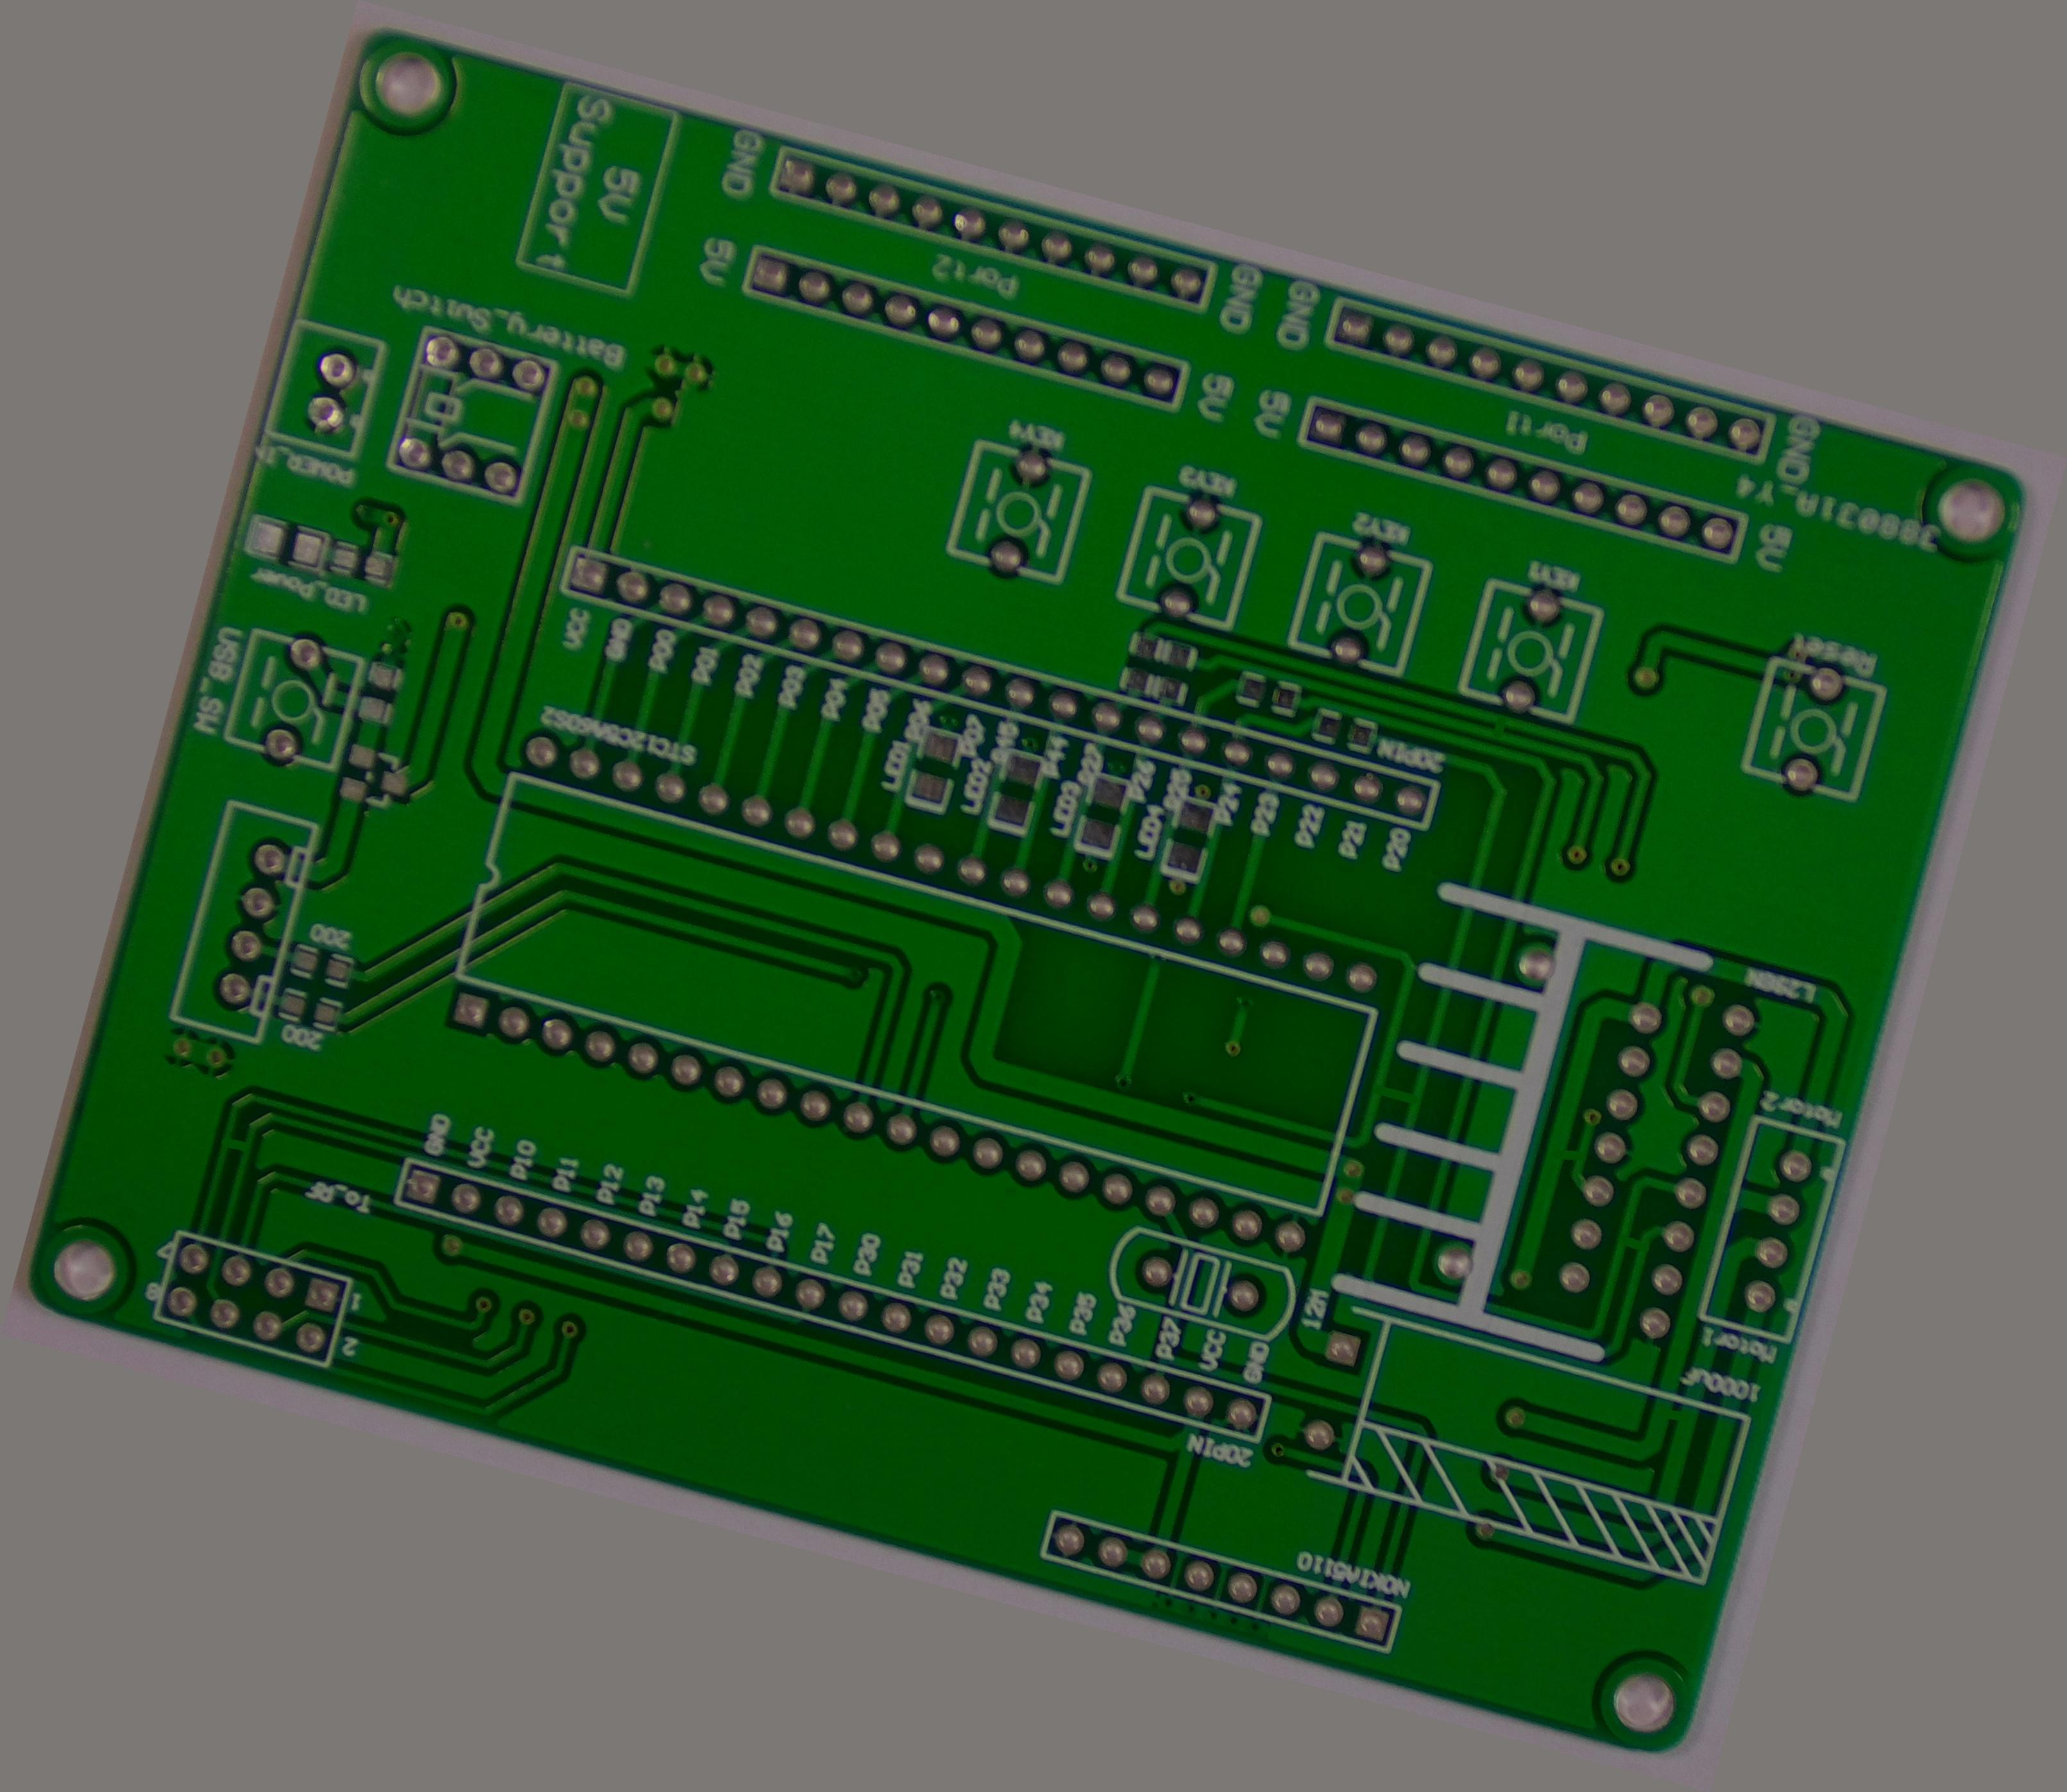short: (1362, 1070, 1431, 1121), (1471, 703, 1527, 752), (1540, 1130, 1596, 1177), (1605, 1218, 1656, 1267), (211, 1119, 262, 1167)
